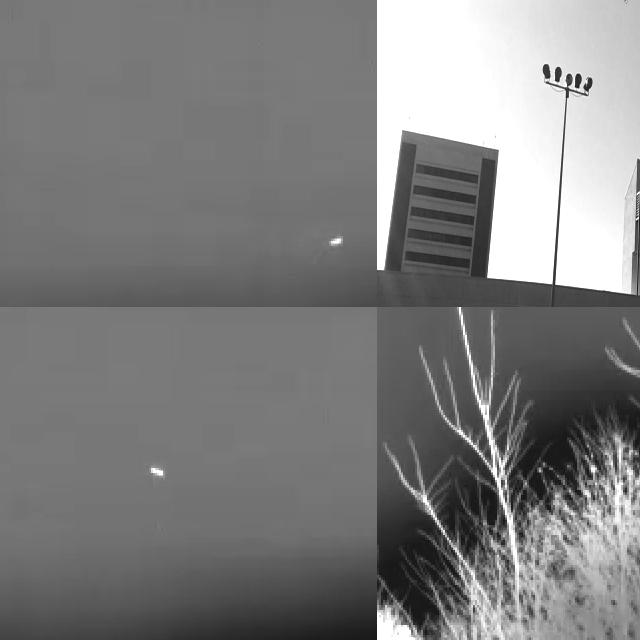1: (319, 229, 353, 261), (142, 460, 174, 490)
drone: (618, 0, 635, 9)
